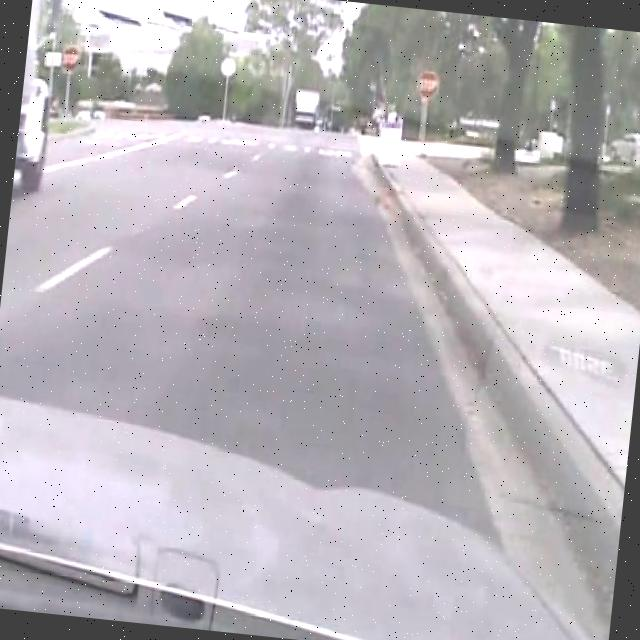Stop: (414, 66, 442, 99)
